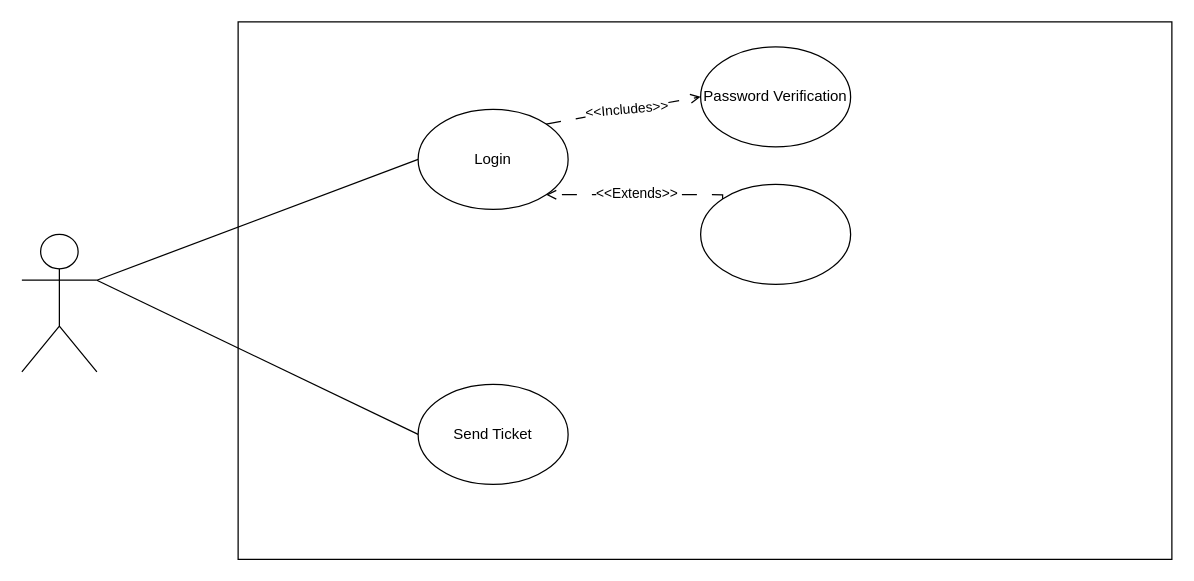
Image size: 1194x581. Some labels were removed from this diagram. Here are the shapes that lost their labels. From the top down, the centre of each, then its label:
At (x=775, y=233): "Login Error".
At (x=59, y=302): "User".
